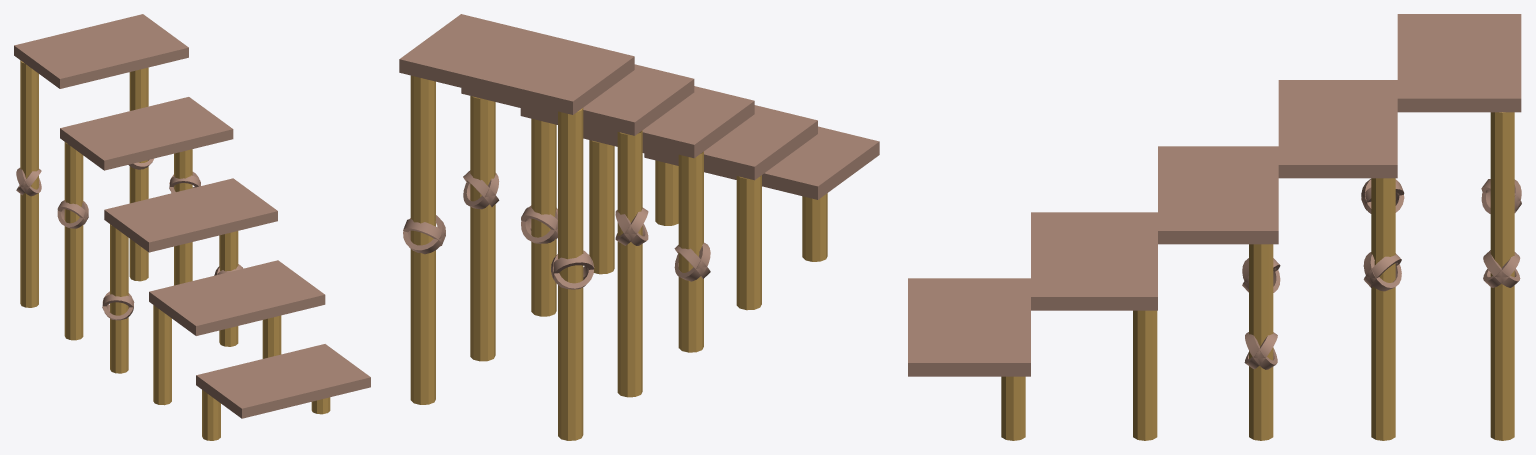
Rendered from StairsforClutamine.fbx.
The picture shows the model from 3 angles, left to right: view 1: azimuth 30°, elevation 25°; view 2: azimuth 150°, elevation 25°; view 3: azimuth 270°, elevation 25°; orthographic projection. The views are drawn at different scales.
Parts seen in each view (by area): view 1: pCube1, pasted__pCylinder1 (×3), pasted__pasted__pCylinder1 (×6), pasted__pasted__polySurface1, pasted__polySurface1; view 2: pCube1, pasted__pasted__pCylinder1 (×6), pasted__pCylinder1 (×3), pasted__polySurface1 (×2), pasted__pasted__pasted__pCylinder1, pasted__pasted__pPipe1 (×2), pasted__pPipe1 (×2), pasted__pasted__polySurface1, polySurface1; view 3: pCube1, pasted__pasted__pCylinder1 (×4), pasted__pasted__pasted__pCylinder1, pasted__polySurface1, polySurface1.
Boxes of the visible parts, x1,y1,x2,y2 form: pCube1: (14, 14, 370, 418); pasted__pCylinder1 (×3): (20, 60, 128, 373); pasted__pasted__pCylinder1 (×6): (129, 67, 281, 440); pasted__pasted__polySurface1: (57, 200, 88, 228); pasted__polySurface1: (102, 291, 134, 320); pCube1: (399, 14, 879, 199); pasted__pasted__pCylinder1 (×6): (410, 75, 827, 404); pasted__pCylinder1 (×3): (558, 108, 703, 440); pasted__polySurface1 (×2): (463, 170, 710, 281); pasted__pasted__pasted__pCylinder1: (655, 160, 678, 225); pasted__pasted__pPipe1 (×2): (403, 215, 594, 289); pasted__pPipe1 (×2): (403, 219, 593, 279); pasted__pasted__polySurface1: (615, 207, 648, 245); polySurface1: (521, 205, 557, 243); pCube1: (908, 14, 1521, 376); pasted__pasted__pCylinder1 (×4): (1133, 112, 1514, 440); pasted__pasted__pasted__pCylinder1: (1001, 376, 1025, 440); pasted__polySurface1: (1363, 252, 1401, 291); polySurface1: (1244, 332, 1277, 369).
Bounding box in the file's own units: 4.27 × 7.48 × 12.09.
